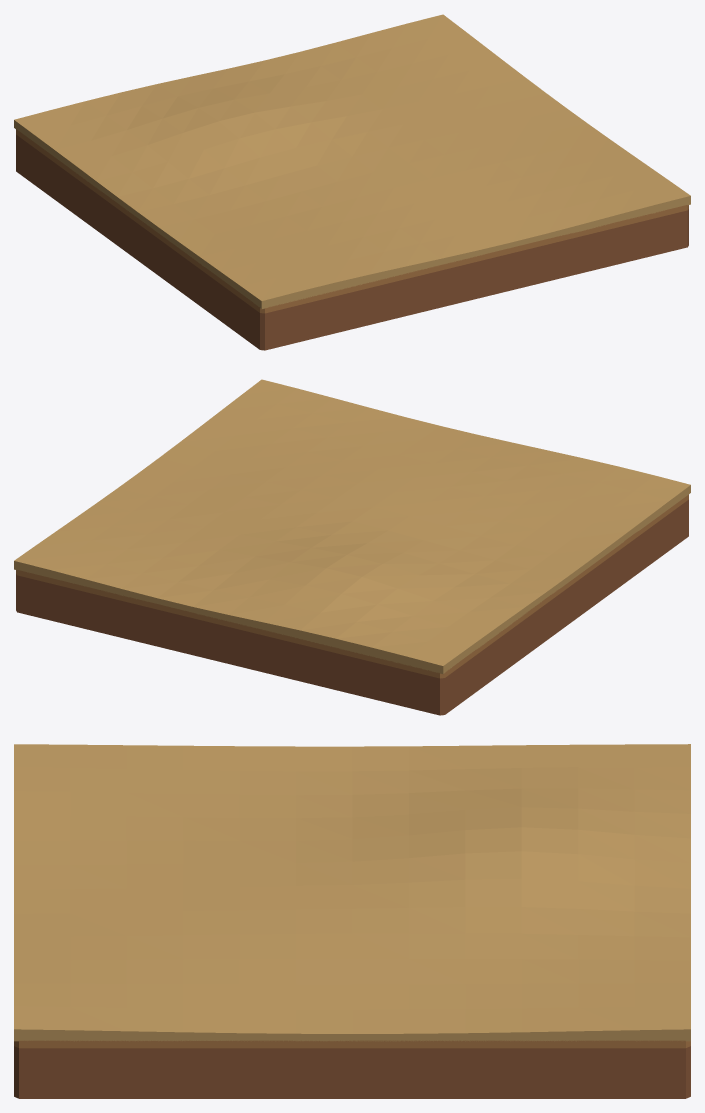
3 renders of one model, top to bottom at view 1: azimuth 30°, elevation 25°; view 2: azimuth 150°, elevation 25°; view 3: azimuth 270°, elevation 25°, orthographic. The views are drawn at different scales.
Parts seen in each view (by area): view 1: B08_沙地双脊; view 2: B08_沙地双脊; view 3: B08_沙地双脊.
Part boxes in pixels (<box>): B08_沙地双脊: <box>14,14,690,350</box>; B08_沙地双脊: <box>14,379,690,715</box>; B08_沙地双脊: <box>14,744,690,1098</box>.
Size of the model in its own units: 8 by 1.05 by 8.
